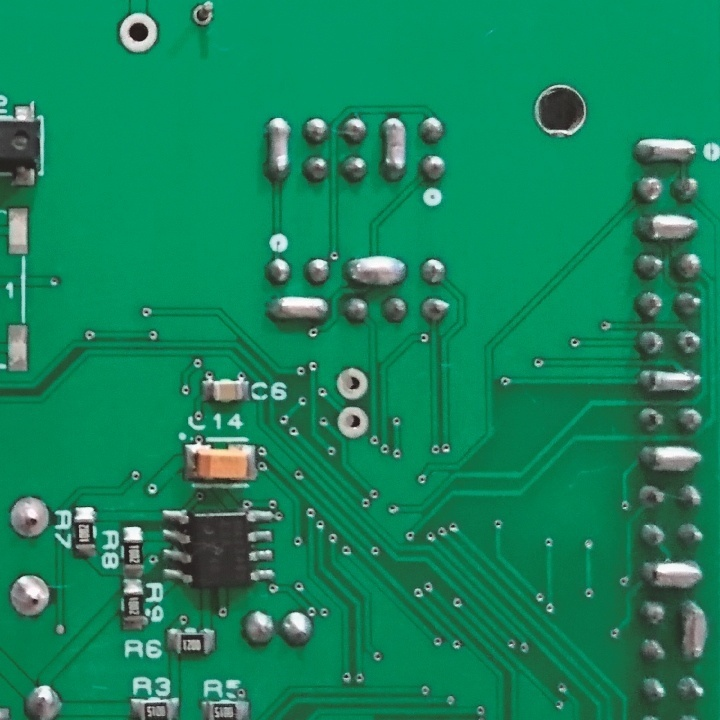F: (6, 493, 55, 541), (116, 9, 161, 60), (8, 575, 53, 618), (333, 363, 369, 403), (334, 402, 370, 440), (187, 1, 220, 29)
P: (636, 552, 705, 593), (261, 290, 332, 326), (677, 594, 713, 664), (630, 135, 700, 170), (342, 253, 412, 288), (629, 210, 701, 244), (635, 365, 705, 399), (635, 441, 705, 475), (264, 114, 296, 186), (379, 111, 410, 184)
